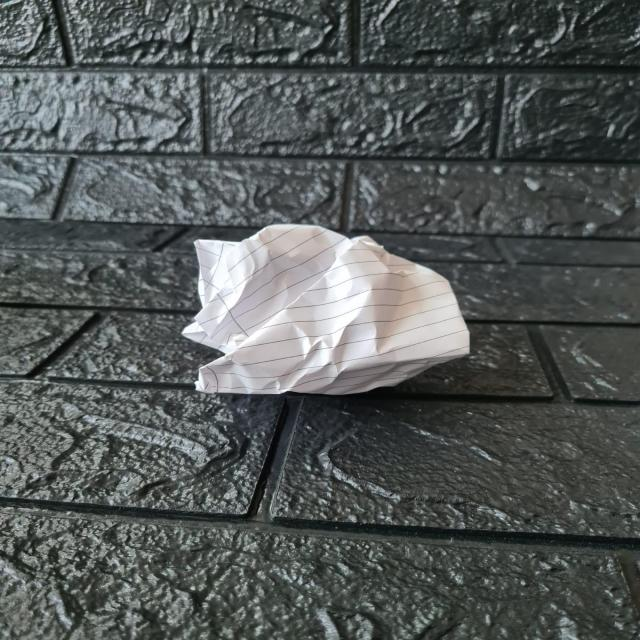Organik: (184, 222, 477, 402)
